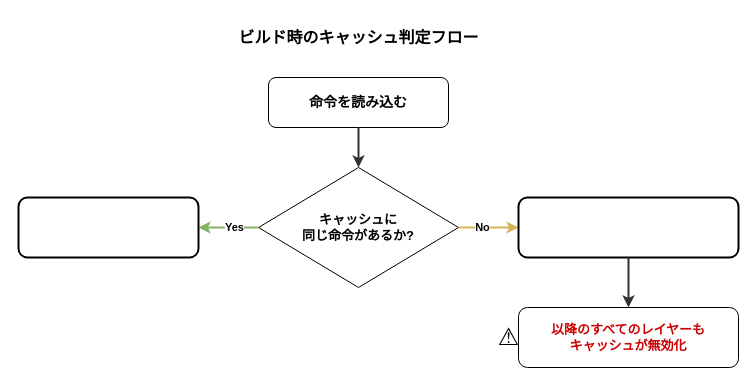
Image size: 756x385. Some labels were removed from this diagram. Each missing label, with the centre of its shape:
キャッシュを使用 （高速）: the point at 108,227
新しいレイヤーを作成 （時間がかかる）: the point at 628,227
